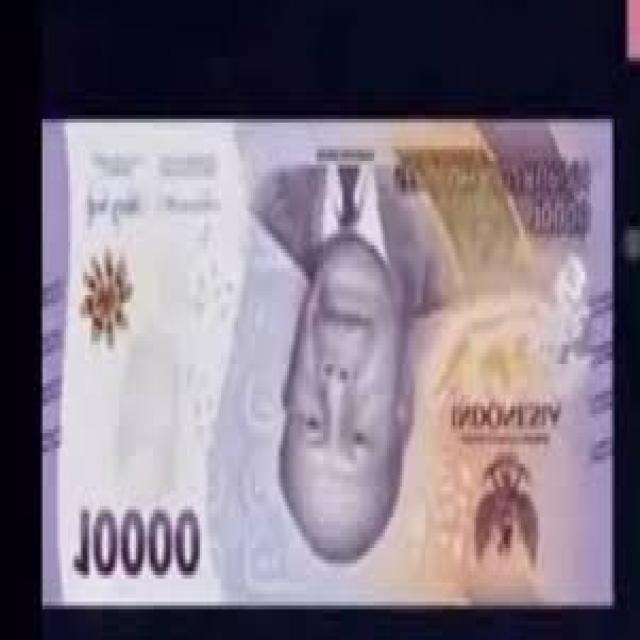sepuluh ribu rupiah: (41, 121, 616, 609)
